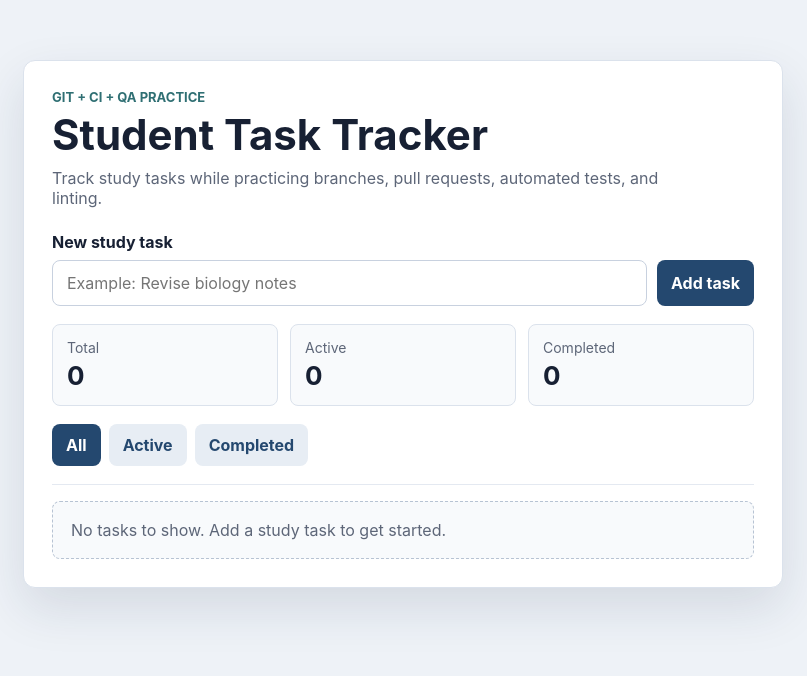
Test case: Student Task Tracker › updates task summary counts
The width and height of the screenshot is (807, 676).
Type "Review English essay" into the field labelled "New study task" at (350, 282), box [52,260,647,306]
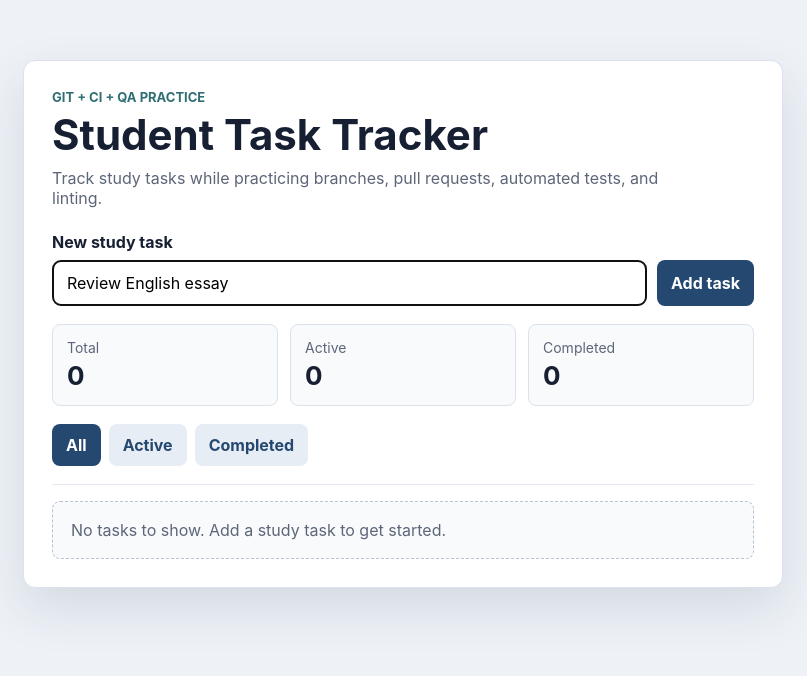
Click the button "Add task" at (706, 282), box [657,260,754,306]
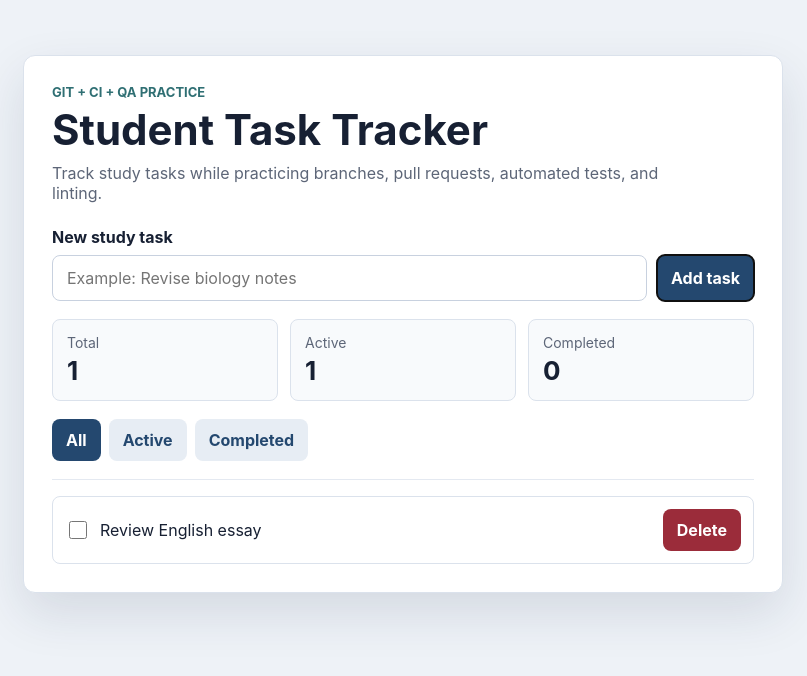
Type "Study geography map" into the field labelled "New study task" at (350, 278), box [52,254,647,300]
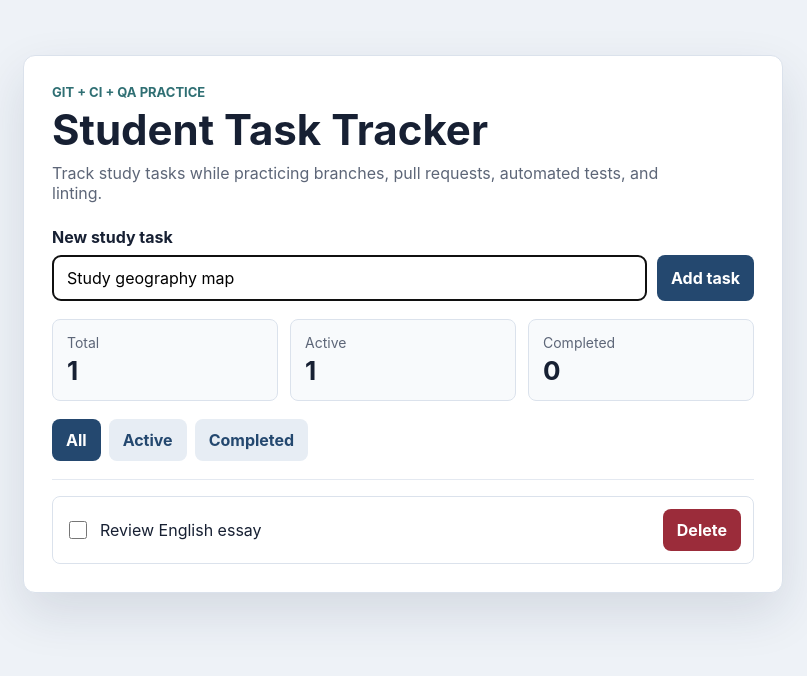
Click the button "Add task" at (706, 278), box [657,254,754,300]
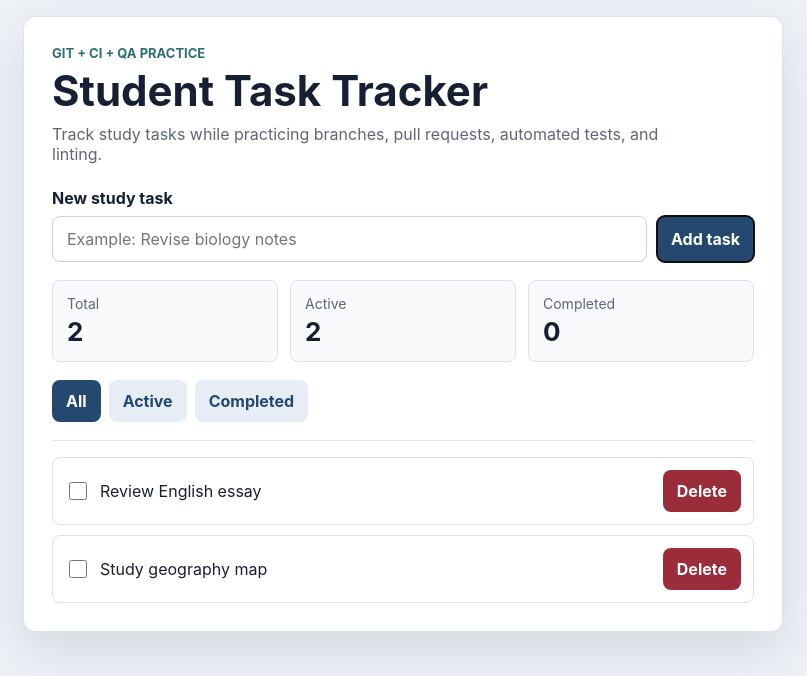
Click the checkbox labelled "Review English essay" at (78, 490), box [69,482,87,500]
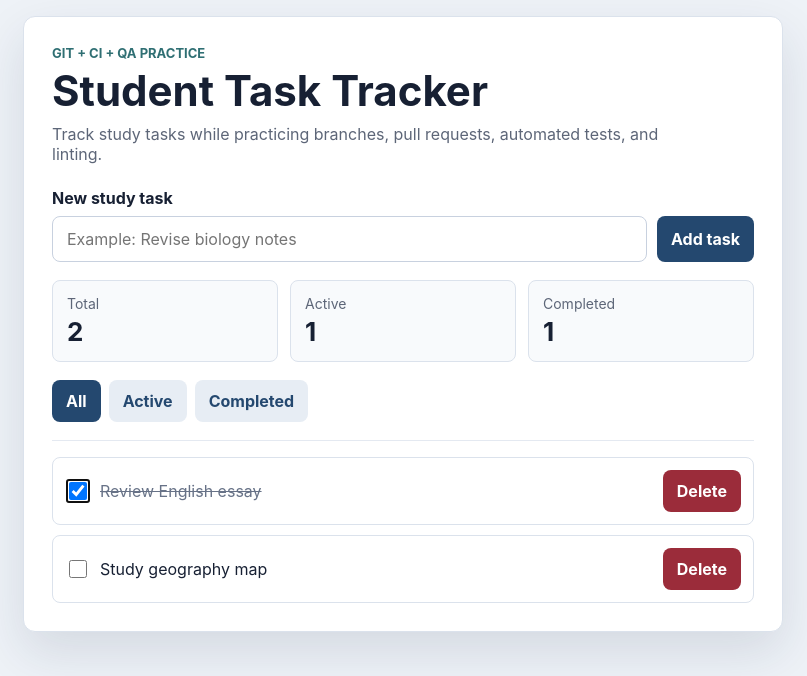
Check: the text "Total" shows "2", box [67,316,83,346]
Check: the text "Active" shows "1", box [305,316,316,346]
Check: the text "Completed" shows "1", box [543,316,554,346]
